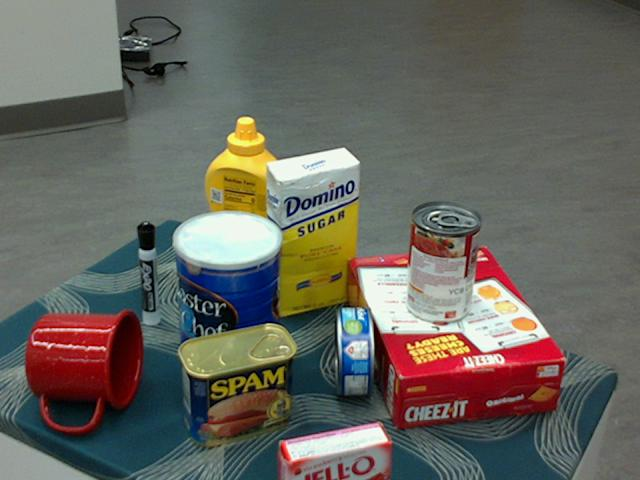cracker_box: (344, 248, 564, 425)
gelatin_box: (275, 422, 388, 479)
large_marker: (136, 220, 157, 325)
master_chef_can: (174, 211, 282, 385)
mug: (25, 308, 143, 431)
mustard_bottle: (204, 117, 288, 285)
potted_meat_can: (178, 323, 296, 446)
sugar_box: (265, 149, 360, 318)
tomato_soup_can: (404, 203, 481, 325)
tuna_fish_can: (335, 306, 374, 395)
